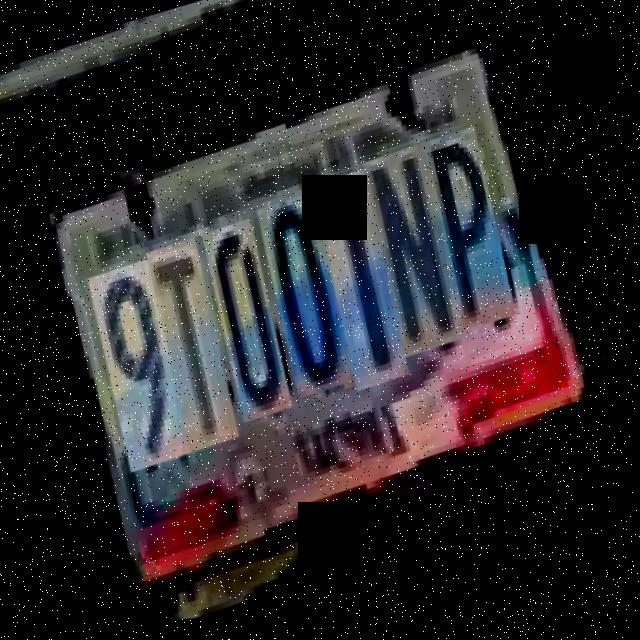0: (189, 220, 305, 438)
1: (296, 167, 421, 404)
9: (75, 257, 204, 485)
N: (347, 143, 476, 371)
O: (244, 195, 367, 415)
P: (407, 127, 527, 347)
T: (133, 236, 253, 467)
